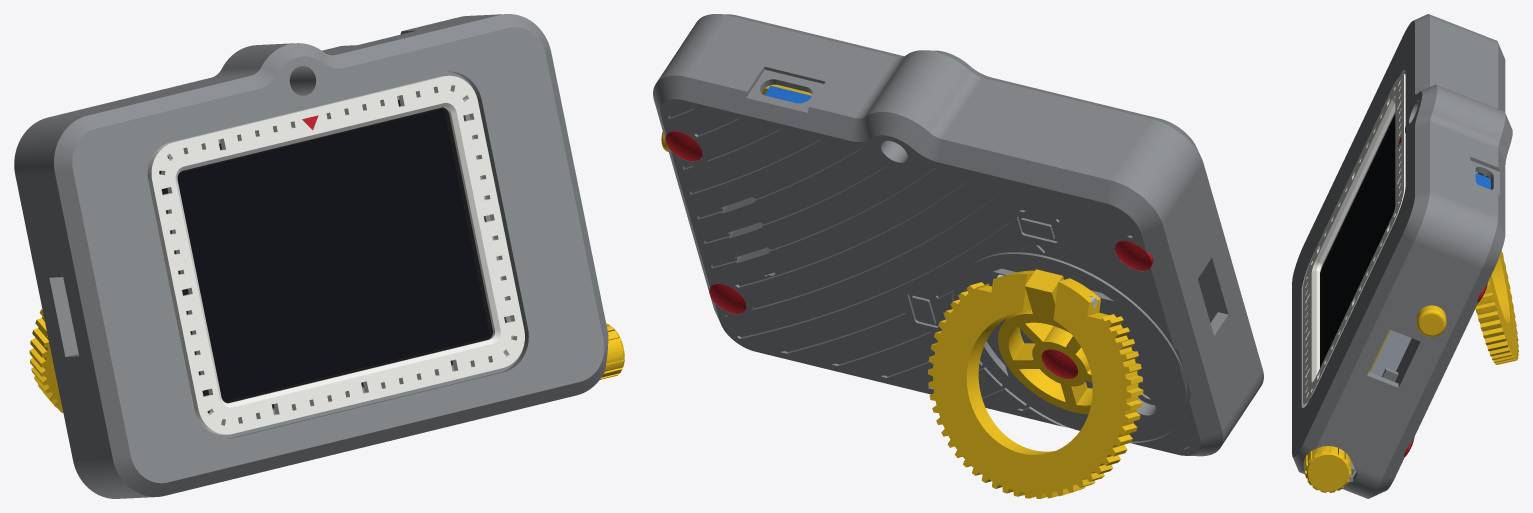
File: yatay.glb
3 views of the same model, side by side, from view 1: azimuth 30°, elevation 25°; view 2: azimuth 150°, elevation 25°; view 3: azimuth 270°, elevation 25° (orthographic). The views are drawn at different scales.
Visible parts, largest first — view 1: on_kasa, ekran, panel, arka_kapak, ic_lcd, cark_halka, kurma_kolu; view 2: arka_kapak, on_kasa, cark_halka, cark_gobek, yakut_2, yakut_0, yakut_1, yakut_merkez; view 3: on_kasa, arka_kapak, panel, ekran, cark_halka, kurma_kolu, ic_lcd, ic_pil, itici.
Boxes of the visible parts, x1,y1,x2,y2 form: on_kasa: [27, 14, 608, 498]; ekran: [177, 108, 489, 401]; panel: [147, 75, 524, 434]; arka_kapak: [14, 15, 477, 498]; ic_lcd: [159, 100, 492, 413]; cark_halka: [29, 309, 63, 412]; kurma_kolu: [600, 323, 624, 379]; arka_kapak: [653, 55, 1236, 456]; on_kasa: [670, 14, 1263, 425]; cark_halka: [928, 270, 1143, 498]; cark_gobek: [997, 269, 1092, 414]; yakut_2: [1114, 241, 1153, 270]; yakut_0: [665, 131, 702, 161]; yakut_1: [709, 283, 746, 313]; yakut_merkez: [1041, 349, 1077, 378]; on_kasa: [1292, 14, 1482, 490]; arka_kapak: [1346, 32, 1512, 498]; panel: [1303, 73, 1405, 405]; ekran: [1324, 121, 1395, 358]; cark_halka: [1475, 251, 1518, 364]; kurma_kolu: [1305, 446, 1351, 492]; ic_lcd: [1320, 113, 1395, 367]; ic_pil: [1370, 172, 1477, 376]; itici: [1417, 305, 1446, 336].
Size of the model in its own units: 0.1092 by 0.0761 by 0.0489.
